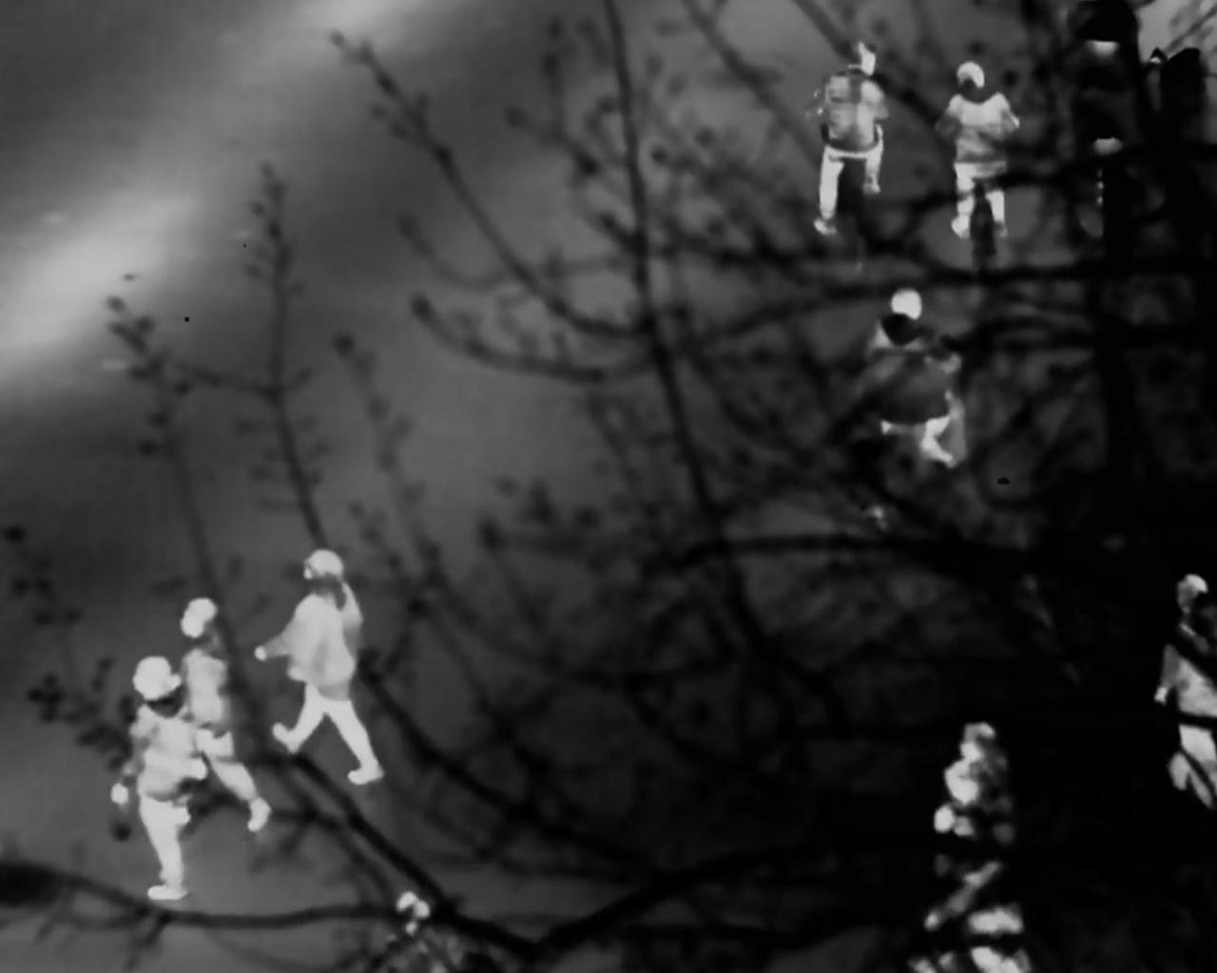person: (262, 552, 380, 765), (174, 595, 270, 830), (120, 658, 205, 906), (1150, 568, 1217, 820), (810, 39, 889, 231), (944, 721, 1026, 899), (873, 292, 962, 440), (943, 67, 1019, 238)
